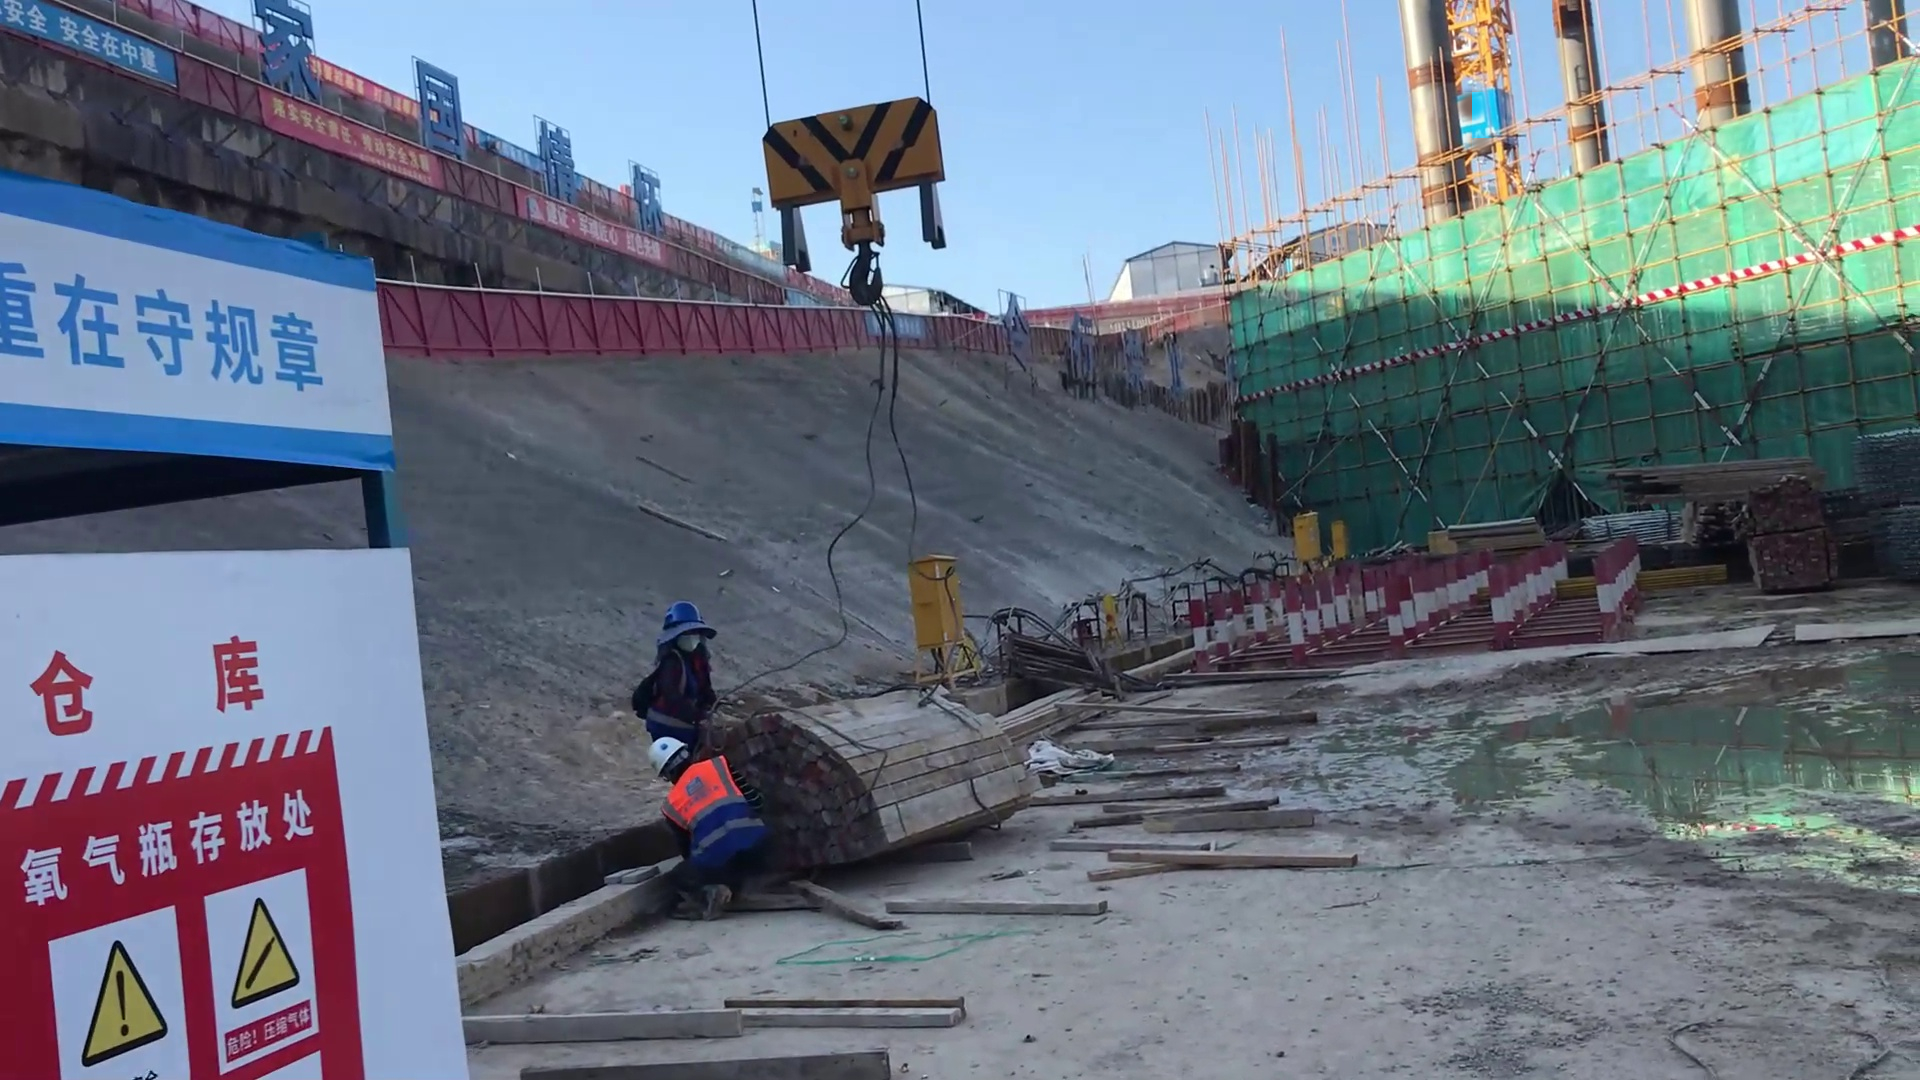ebox: (906, 547, 965, 659), (1296, 509, 1324, 562), (1329, 517, 1345, 558)
fence: (382, 283, 722, 367), (717, 302, 863, 349)
helmet: (650, 590, 726, 680), (642, 730, 683, 771)
hook: (775, 97, 949, 272)
person: (629, 733, 783, 924), (620, 610, 747, 737)
slogan: (1, 244, 328, 433), (37, 885, 344, 1080), (217, 71, 448, 218), (1, 6, 192, 120)
vest: (655, 763, 737, 848)
wood: (1075, 648, 1366, 896), (782, 697, 1058, 867), (1573, 450, 1840, 502)
